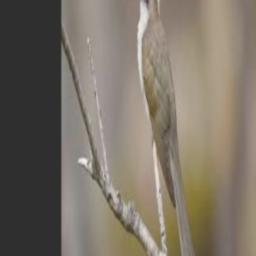Cuckoo: (132, 0, 199, 256)
